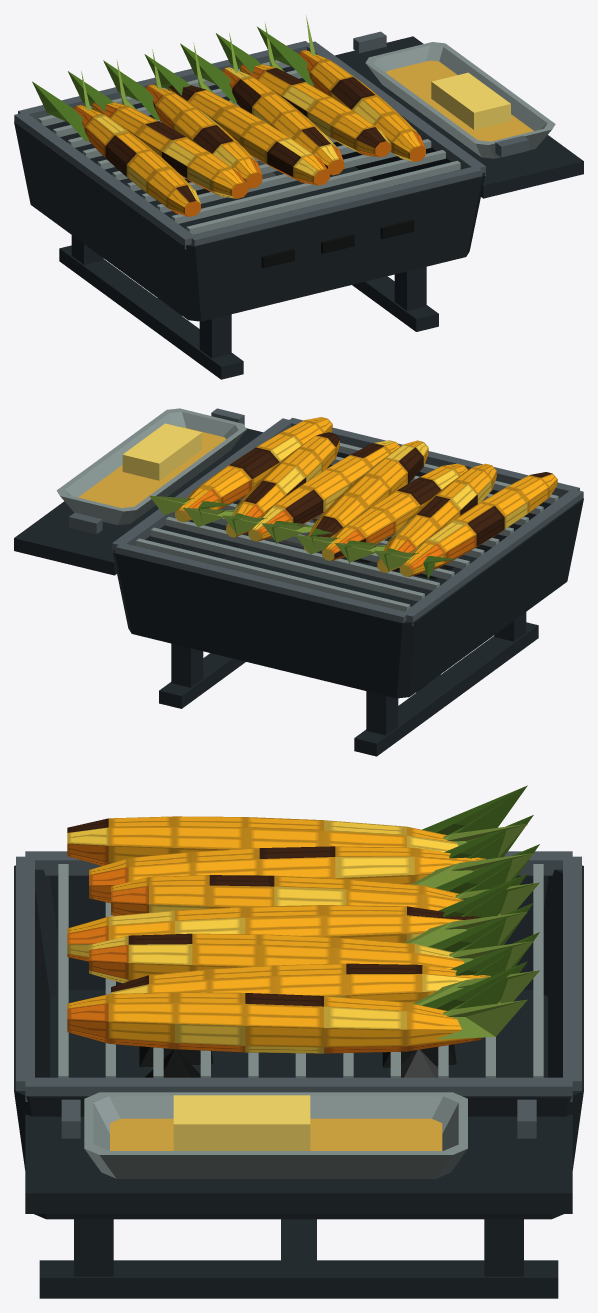
Rendered from CornGrill.fbx.
The picture shows the model from 3 angles, top to bottom: view 1: azimuth 30°, elevation 25°; view 2: azimuth 150°, elevation 25°; view 3: azimuth 270°, elevation 25°; orthographic projection. The views are drawn at different scales.
Visible parts, largest first — view 1: CornGrill_Body; view 2: CornGrill_Body; view 3: CornGrill_Body.
Part boxes in pixels (<box>): CornGrill_Body: <box>14,15,583,379</box>; CornGrill_Body: <box>14,408,583,756</box>; CornGrill_Body: <box>14,785,583,1298</box>.
Size of what is drawn, in the model's own units: 0.39 by 0.1825 by 0.3.
